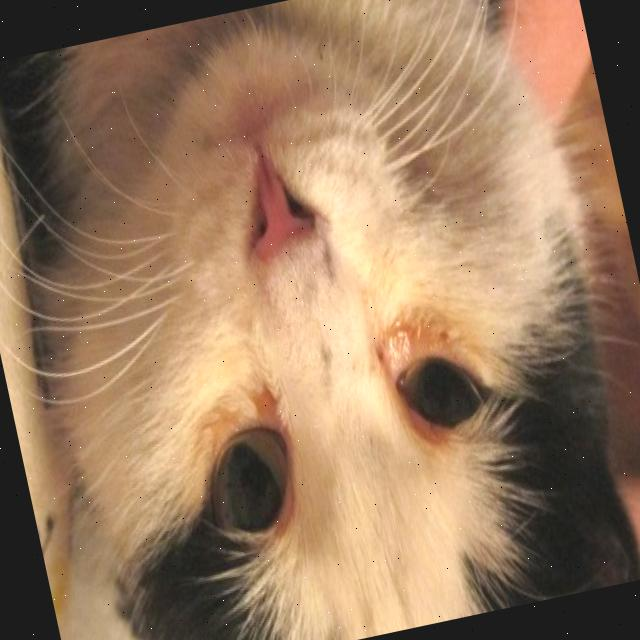cat-eye: (176, 374, 324, 576), (366, 287, 509, 487)
